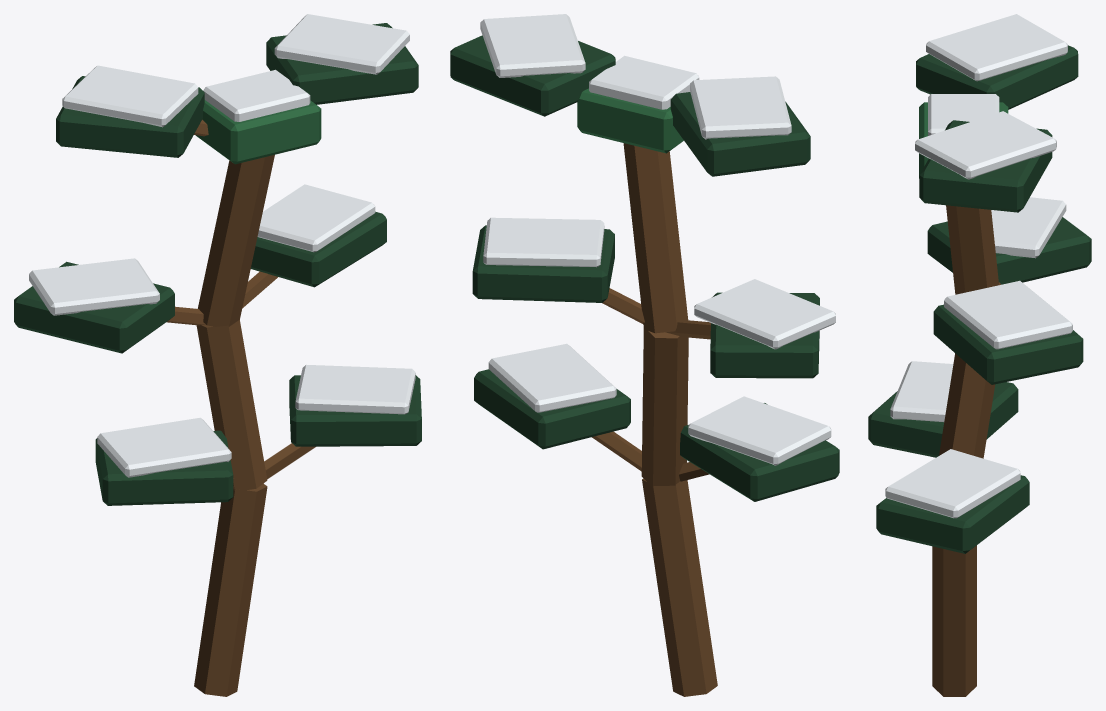
Rendered from arbre_toundra_3.glb.
3 renders of one model, left to right at view 1: azimuth 30°, elevation 25°; view 2: azimuth 150°, elevation 25°; view 3: azimuth 270°, elevation 25°, orthographic. The views are drawn at different scales.
Parts seen in each view (by area): view 1: feuillage_neige.002, feuillage_pin_sombre.002, branches_ecorce.006, feuillage_pin.004; view 2: feuillage_neige.002, feuillage_pin_sombre.002, branches_ecorce.006, feuillage_pin.004; view 3: feuillage_neige.002, feuillage_pin_sombre.002, branches_ecorce.006, feuillage_pin.004.
Boxes of the visible parts, left/top/right/bottom form: feuillage_neige.002: left=29, top=14, right=415, bottom=477; feuillage_pin_sombre.002: left=14, top=23, right=421, bottom=505; branches_ecorce.006: left=166, top=119, right=315, bottom=696; feuillage_pin.004: left=195, top=100, right=321, bottom=164; feuillage_neige.002: left=480, top=14, right=835, bottom=465; feuillage_pin_sombre.002: left=450, top=35, right=839, bottom=501; branches_ecorce.006: left=592, top=143, right=717, bottom=696; feuillage_pin.004: left=577, top=88, right=683, bottom=153; feuillage_neige.002: left=885, top=14, right=1072, bottom=518; feuillage_pin_sombre.002: left=868, top=45, right=1091, bottom=553; branches_ecorce.006: left=932, top=205, right=1000, bottom=696; feuillage_pin.004: left=919, top=102, right=1008, bottom=178.
Size of the model in its own units: 2.43 by 3.84 by 1.25.
